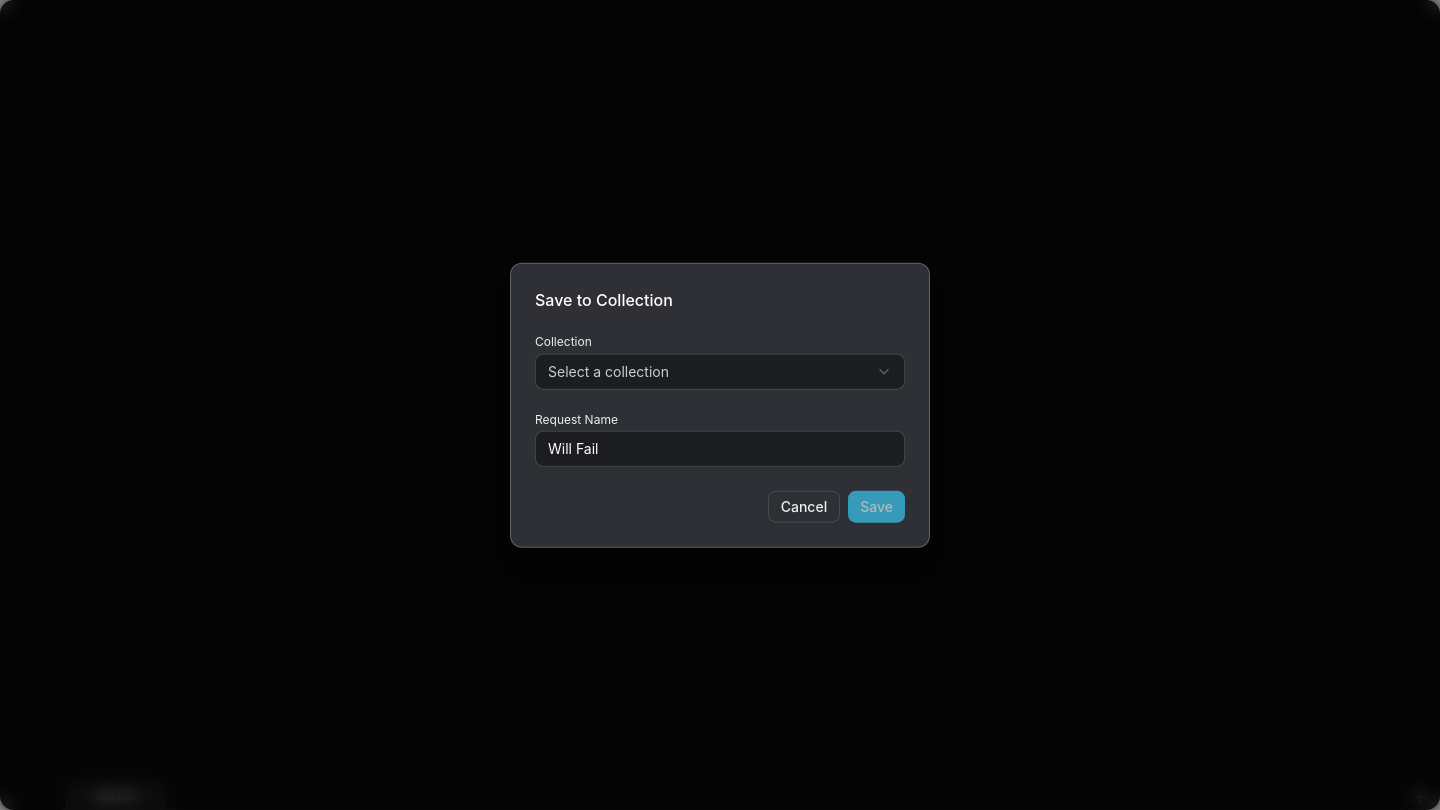
Test: ContextTabs - Save Errors › keeps save dialog open and shows error when save fails
Expected: the dialog with test id "save-to-collection-dialog" is shown, [510,263,930,547]
Click the dropdown with test id "collection-picker": (608, 371) [535,353,905,389]
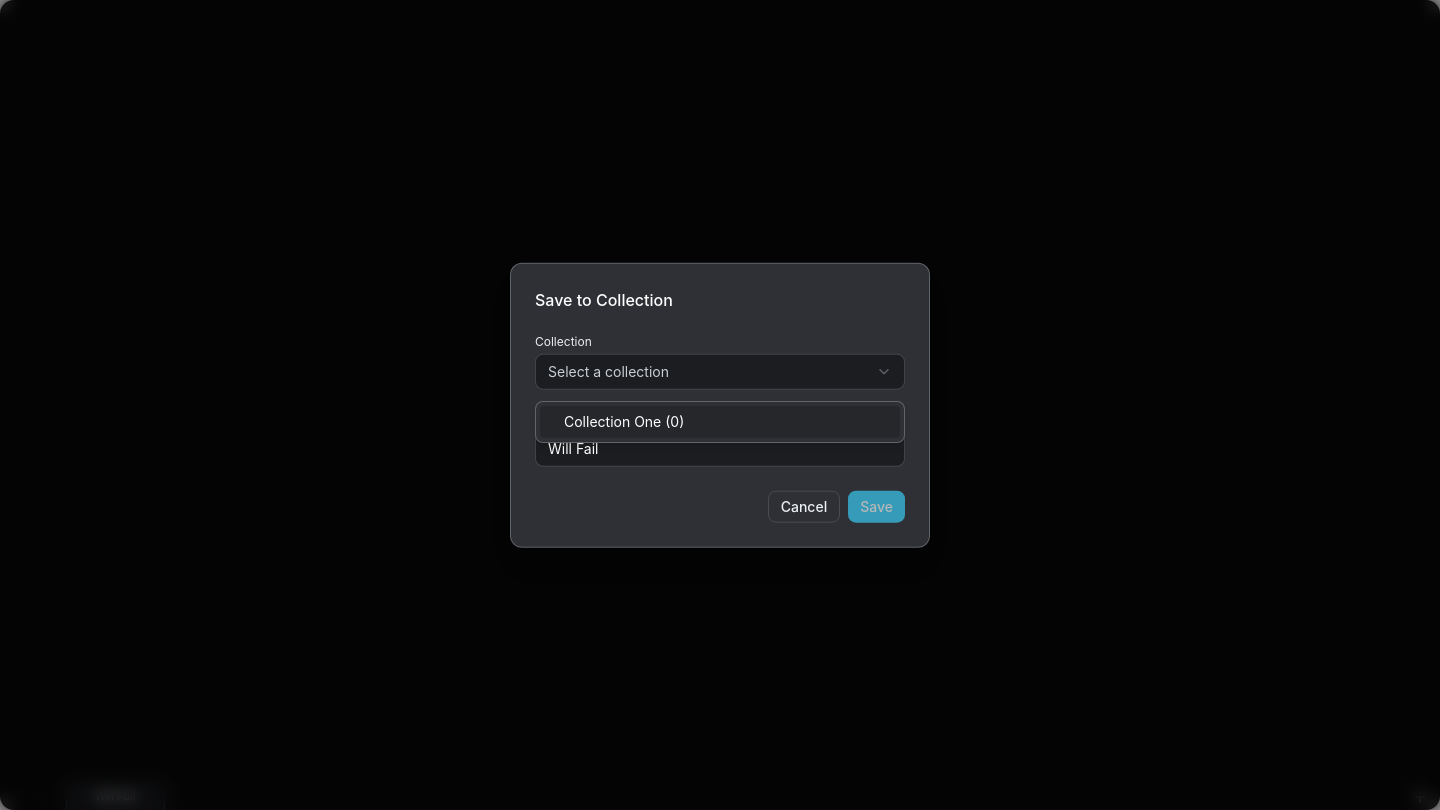
Result: the option with test id "collection-option-col-1" is shown
Click the option with test id "collection-option-col-1": (613, 422) [540,406,900,438]
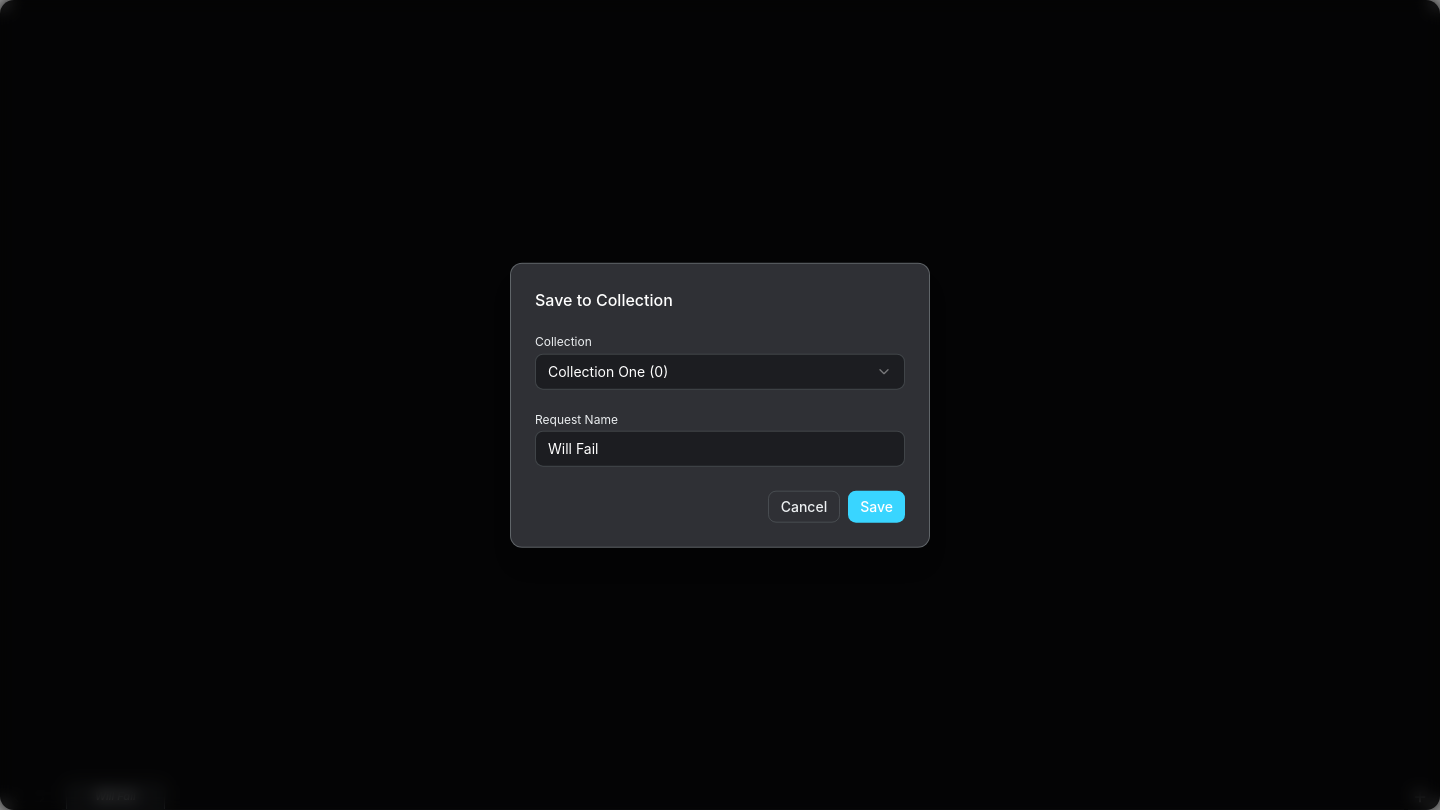
Replace the text in the field with test id "request-name-input" with "Failed Save": (720, 449) [535,431,905,466]
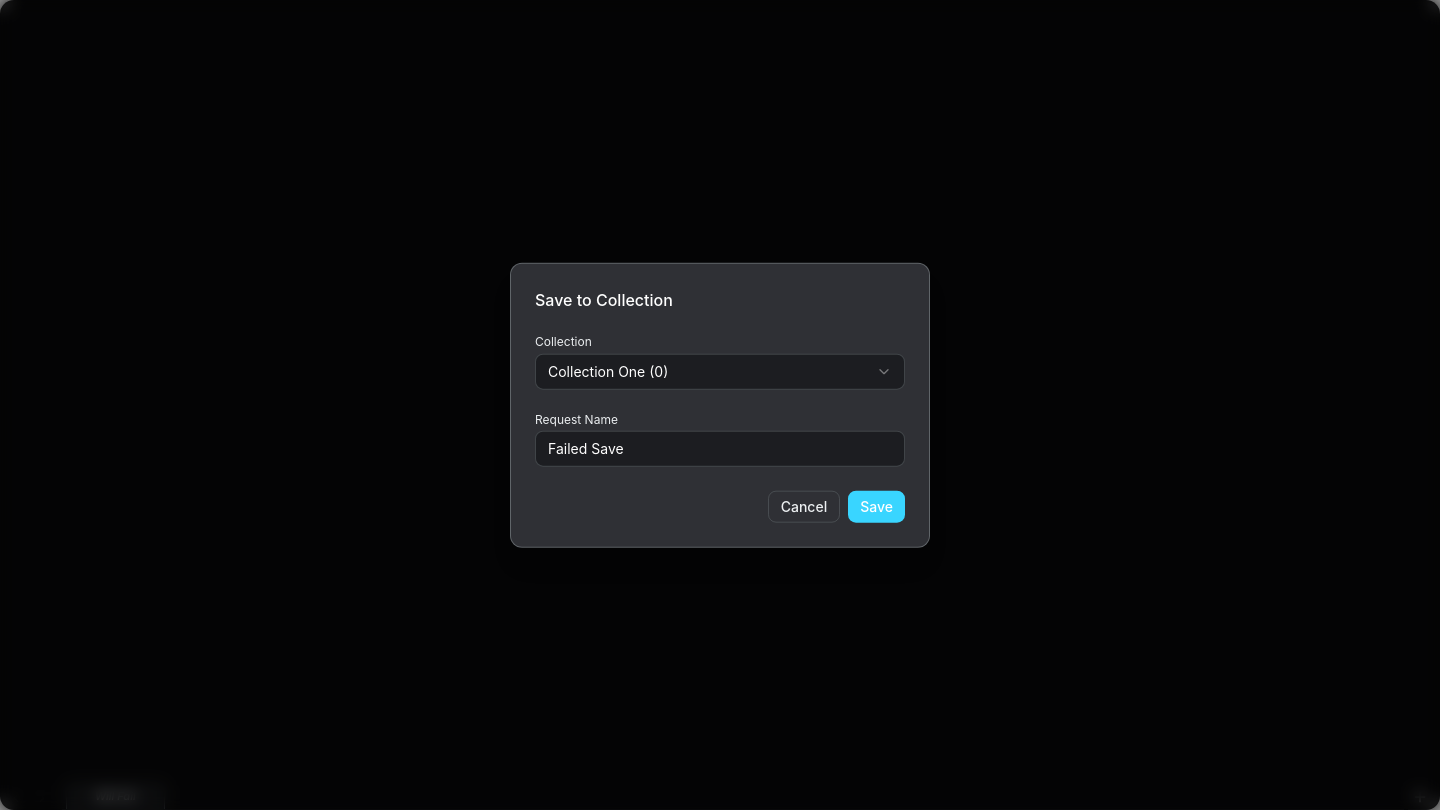
Click the button with test id "save-button": (877, 506) [848,490,905,522]
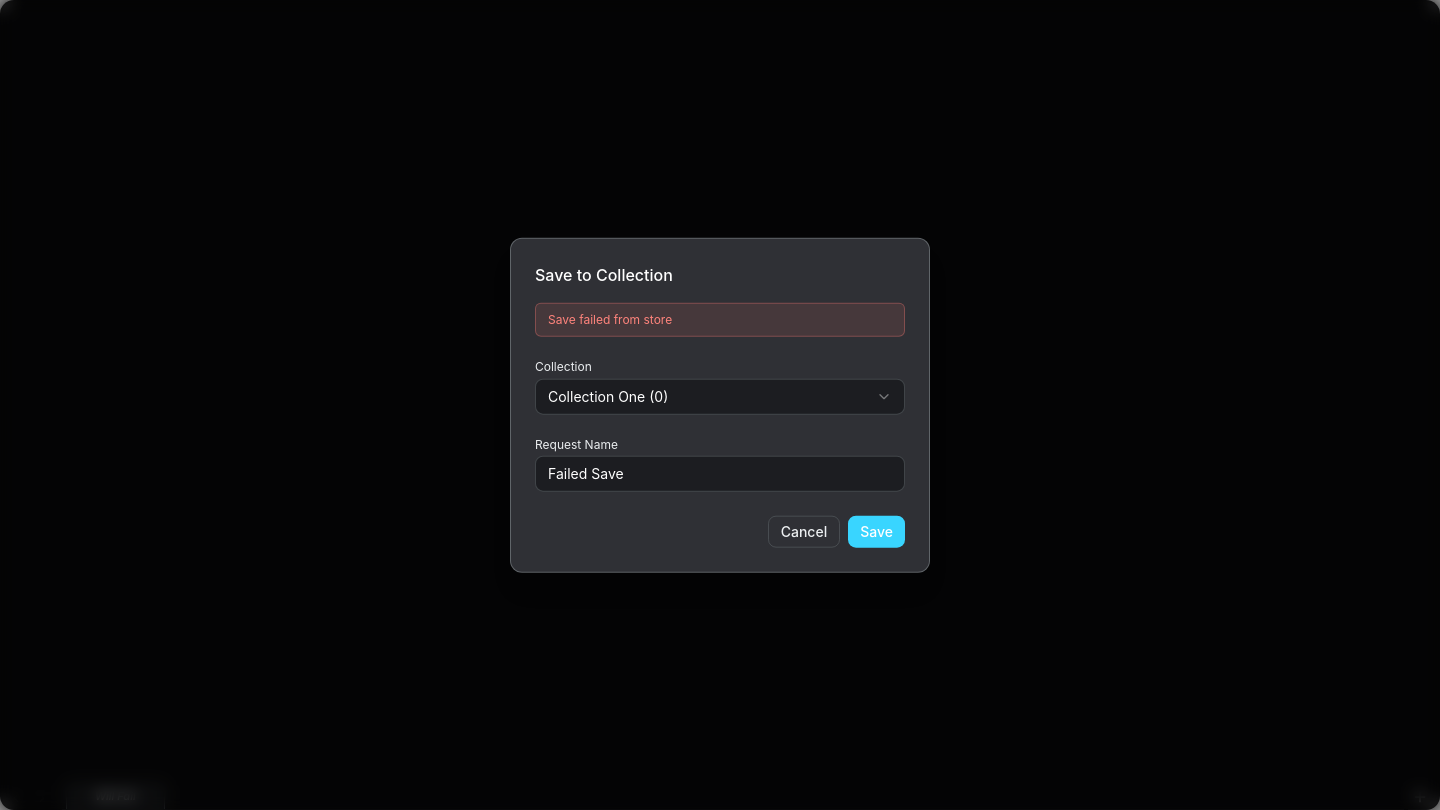
Expected: the dialog with test id "save-to-collection-dialog" is shown, [510,238,930,572]
Result: the message with test id "save-to-collection-error" reads "Save failed from store" at [548,312,672,327]
